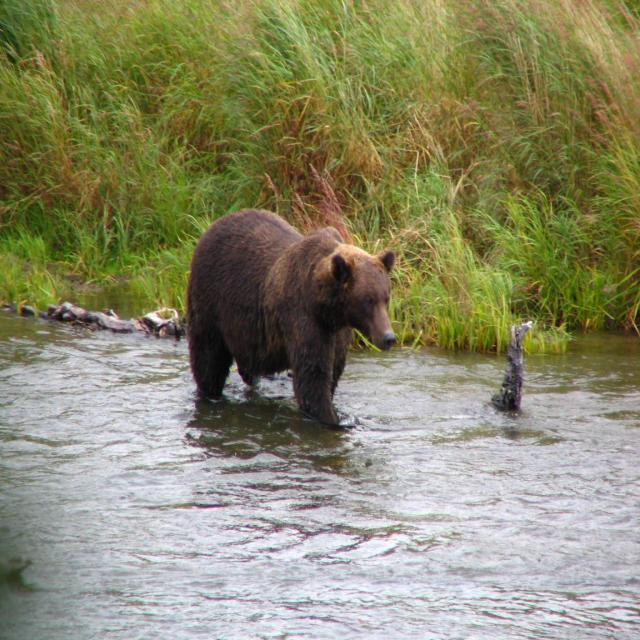bear face: (189, 208, 398, 389)
